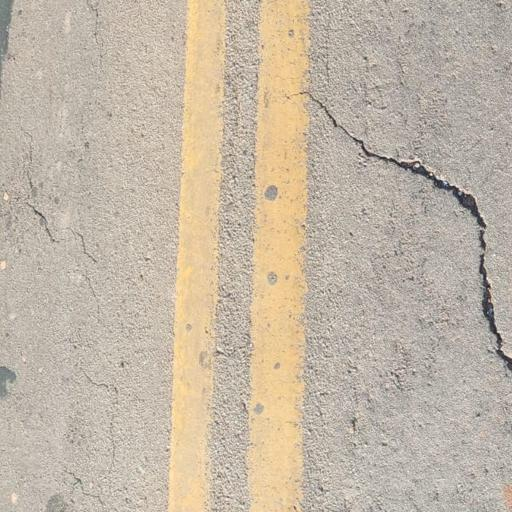GRIETA: (306, 93, 511, 369), (18, 117, 35, 189), (27, 203, 54, 241)
